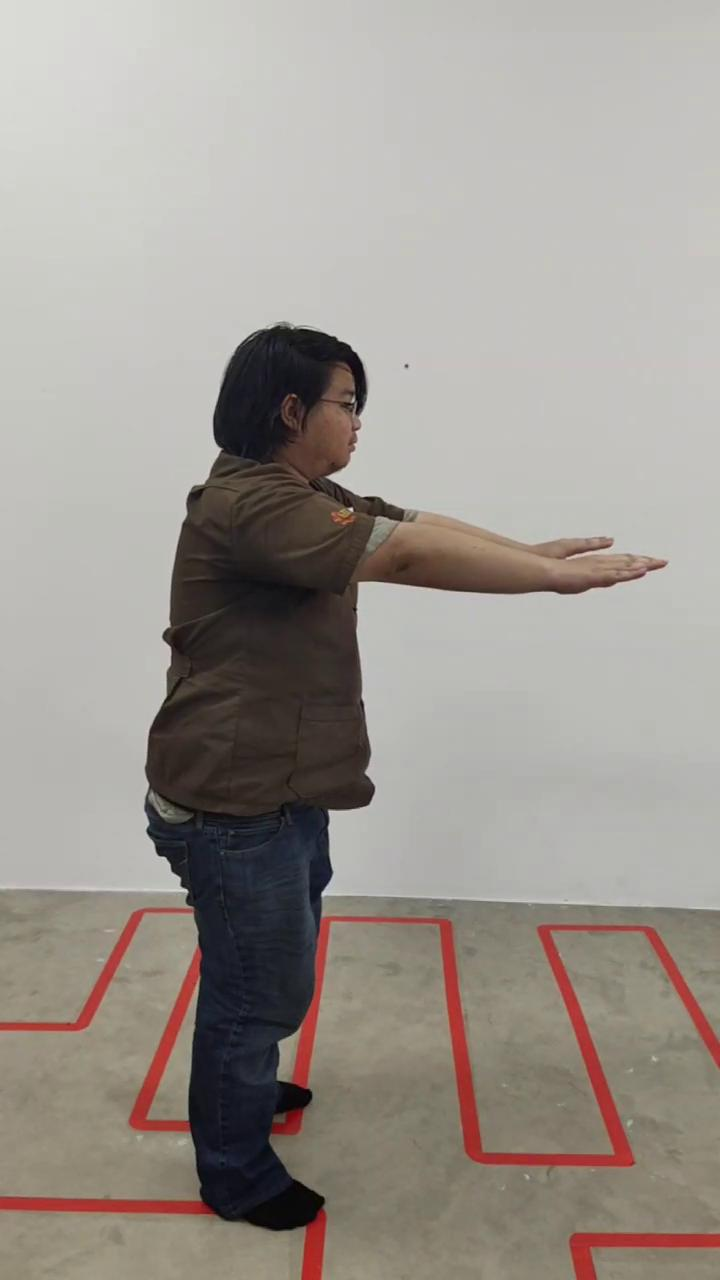squat up: (143, 324, 661, 1234)
